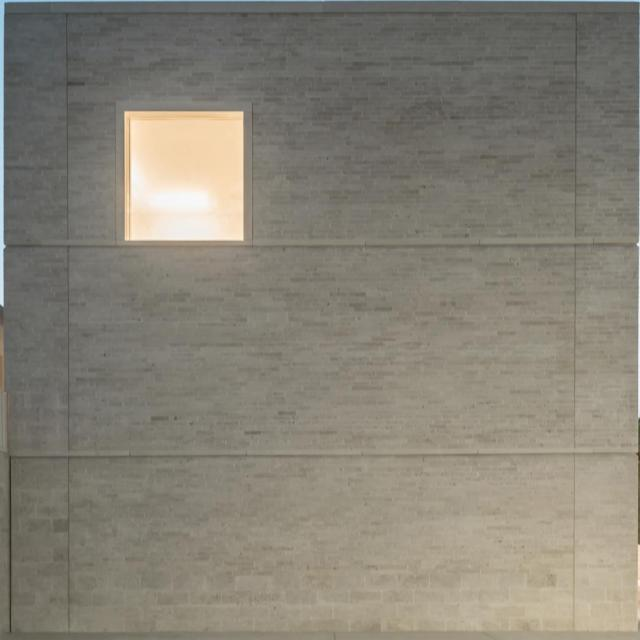window: (121, 111, 243, 243)
